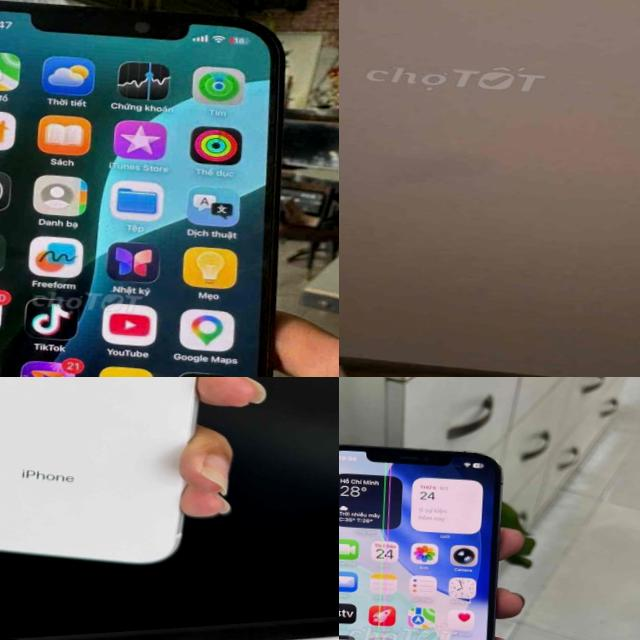gen_12_13: (0, 0, 322, 377), (339, 436, 517, 640)
gen_17: (339, 0, 640, 377)
gen_x_xs: (0, 377, 239, 584)
